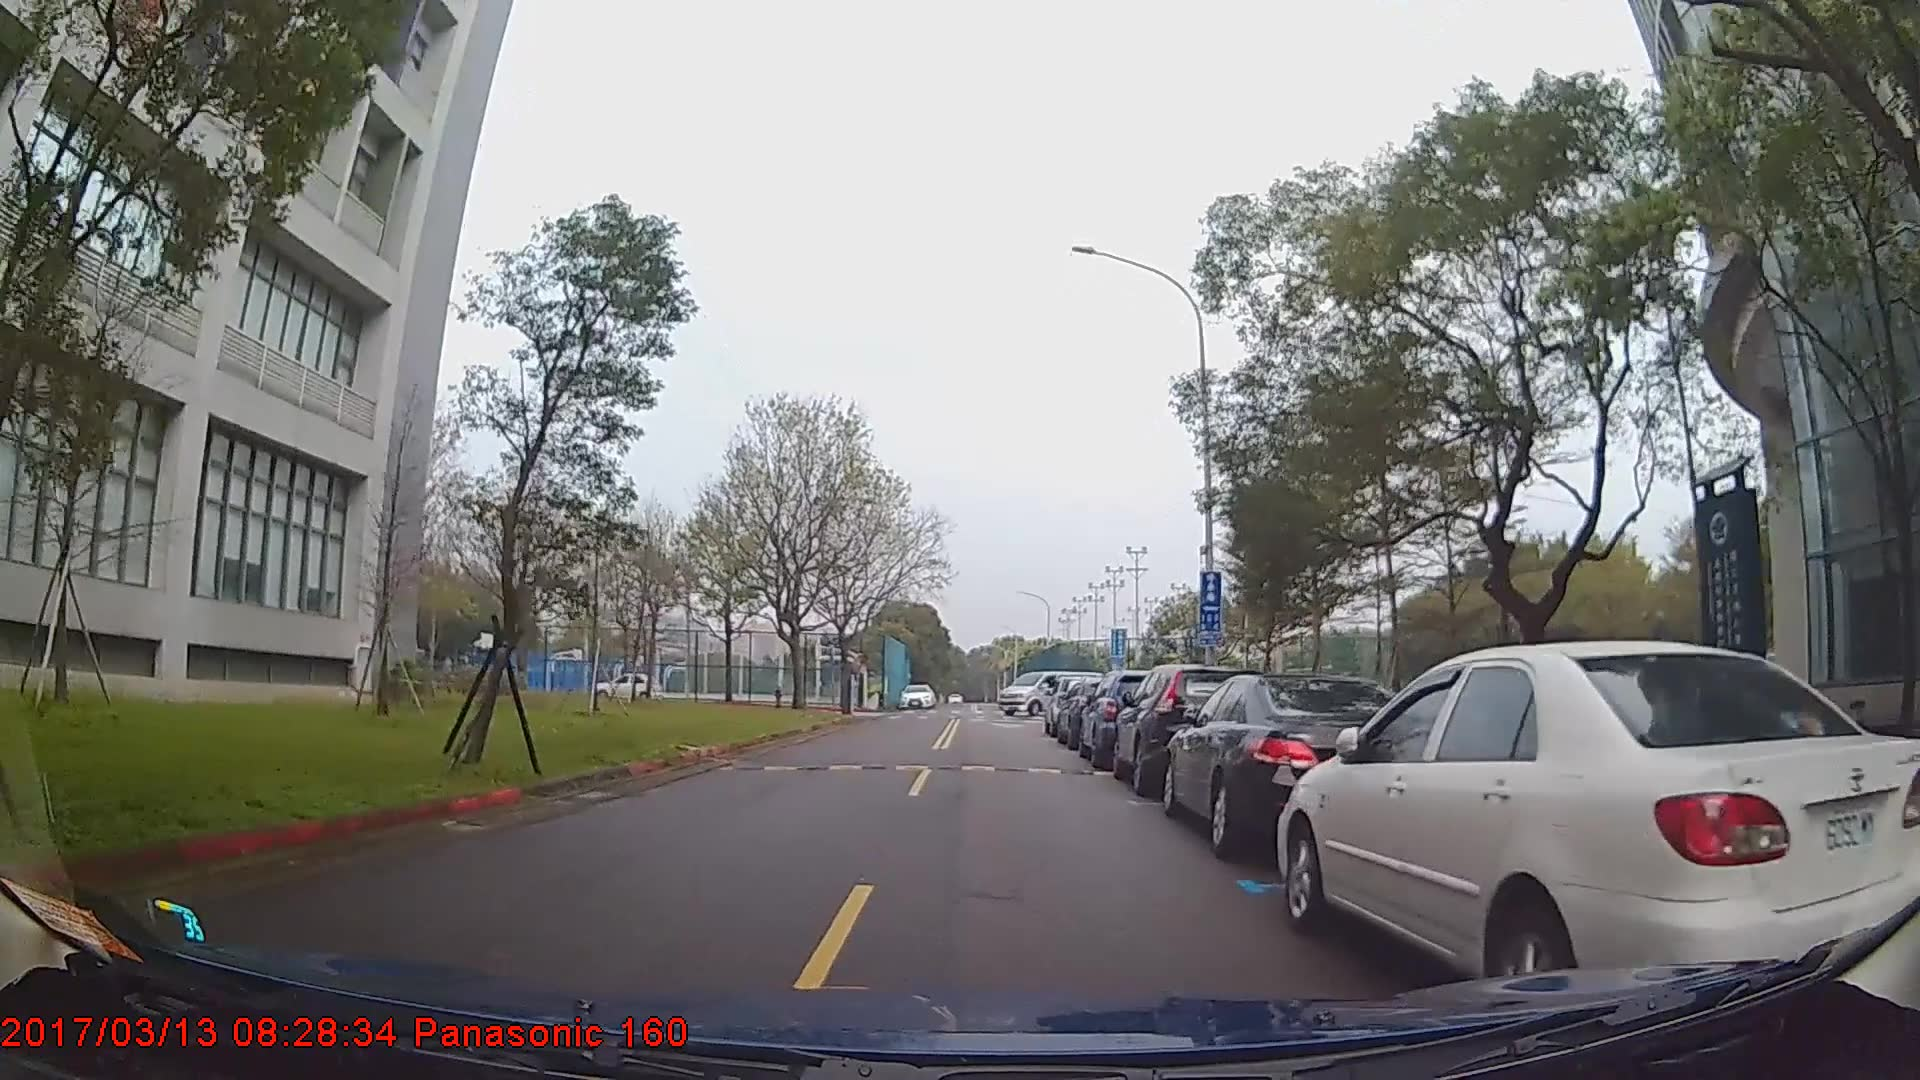vehicle: (1275, 637, 1903, 1021), (1164, 673, 1425, 858), (1109, 662, 1263, 796), (1077, 670, 1172, 771), (997, 669, 1104, 717), (589, 670, 661, 700), (898, 683, 935, 709)
